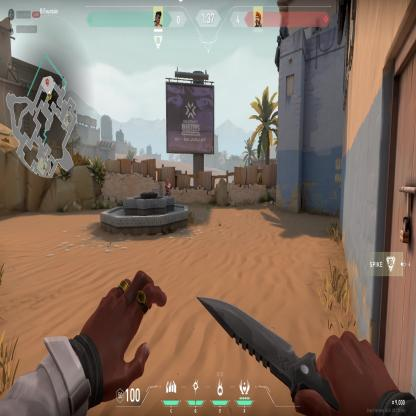enemy: (164, 178, 171, 198)
